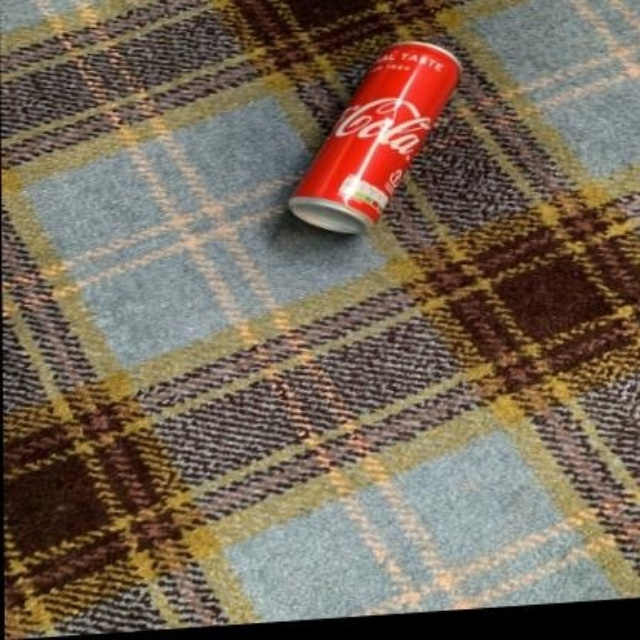trash: (289, 42, 458, 232)
